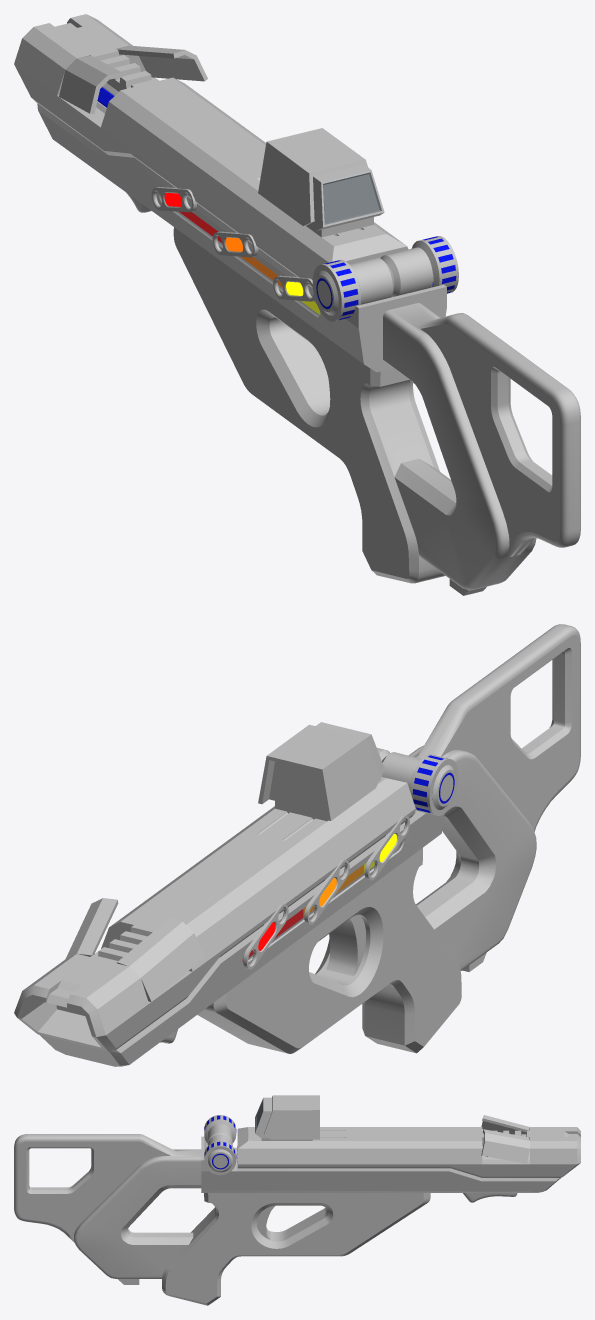
The model's file is l01_animation.FBX.
3 views of the same model, one above another, from view 1: azimuth 30°, elevation 25°; view 2: azimuth 150°, elevation 25°; view 3: azimuth 270°, elevation 25° (orthographic). The views are drawn at different scales.
Visible parts, largest first — view 1: Object059, gun_low, Object062, canon_breakable_part, jesaispas_low, sight_low002, sight_low, Object060, sight_low001, canon_plate_b_low, canon_plate_a_low, aucunes_idee_low_02 (+9 smaller); view 2: Object059, gun_low, Object062, canon_breakable_part, jesaispas_low, sight_low002, canon_plate_b_low, sight_low, Object060, trigger_low, canon_plate_a_low, aucunes_idee_low_00 (+6 smaller); view 3: Object059, Object060, jesaispas_low, canon_breakable_part, Object062, sight_low002, canon_plate_a_low, sight_low, canon_plate_b_low, aucunes_idee_low_03, aucunes_idee_low_04, gun_low (+4 smaller).
Boxes of the visible parts, x1=… form: Object059: x1=383, y1=303, x2=580, y2=595; gun_low: x1=173, y1=227, x2=438, y2=583; Object062: x1=14, y1=14, x2=236, y2=174; canon_breakable_part: x1=154, y1=117, x2=408, y2=287; jesaispas_low: x1=37, y1=103, x2=446, y2=372; sight_low002: x1=258, y1=128, x2=368, y2=225; sight_low: x1=306, y1=164, x2=384, y2=237; Object060: x1=288, y1=327, x2=445, y2=578; sight_low001: x1=323, y1=172, x2=381, y2=224; canon_plate_b_low: x1=59, y1=56, x2=122, y2=114; canon_plate_a_low: x1=117, y1=45, x2=207, y2=81; aucunes_idee_low_02: x1=380, y1=247, x2=433, y2=296; Object059: x1=408, y1=624, x2=580, y2=971; gun_low: x1=202, y1=848, x2=461, y2=1053; Object062: x1=14, y1=882, x2=246, y2=1051; canon_breakable_part: x1=163, y1=777, x2=415, y2=939; jesaispas_low: x1=40, y1=810, x2=444, y2=1066; sight_low002: x1=258, y1=724, x2=380, y2=820; canon_plate_b_low: x1=117, y1=917, x2=204, y2=1001; sight_low: x1=269, y1=722, x2=384, y2=821; Object060: x1=197, y1=938, x2=396, y2=1048; trigger_low: x1=326, y1=914, x2=365, y2=975; canon_plate_a_low: x1=65, y1=898, x2=118, y2=959; aucunes_idee_low_00: x1=410, y1=754, x2=458, y2=815; Object059: x1=14, y1=1134, x2=201, y2=1284; Object060: x1=162, y1=1193, x2=430, y2=1305; jesaispas_low: x1=201, y1=1136, x2=561, y2=1192; canon_breakable_part: x1=237, y1=1127, x2=423, y2=1168; Object062: x1=423, y1=1127, x2=580, y2=1177; sight_low002: x1=264, y1=1095, x2=319, y2=1139; canon_plate_a_low: x1=481, y1=1129, x2=529, y2=1163; sight_low: x1=255, y1=1097, x2=312, y2=1140; canon_plate_b_low: x1=481, y1=1115, x2=529, y2=1134; aucunes_idee_low_03: x1=204, y1=1141, x2=236, y2=1175; aucunes_idee_low_04: x1=208, y1=1149, x2=232, y2=1172; gun_low: x1=191, y1=1207, x2=326, y2=1236.
Bounding box in the file's own units: 14.26 × 40.02 × 104.
